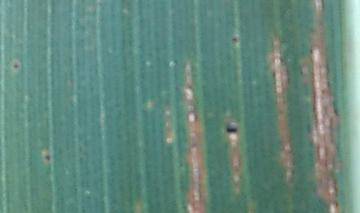tarspot: (222, 120, 243, 135), (10, 61, 22, 73), (42, 152, 54, 163), (230, 34, 242, 44)
